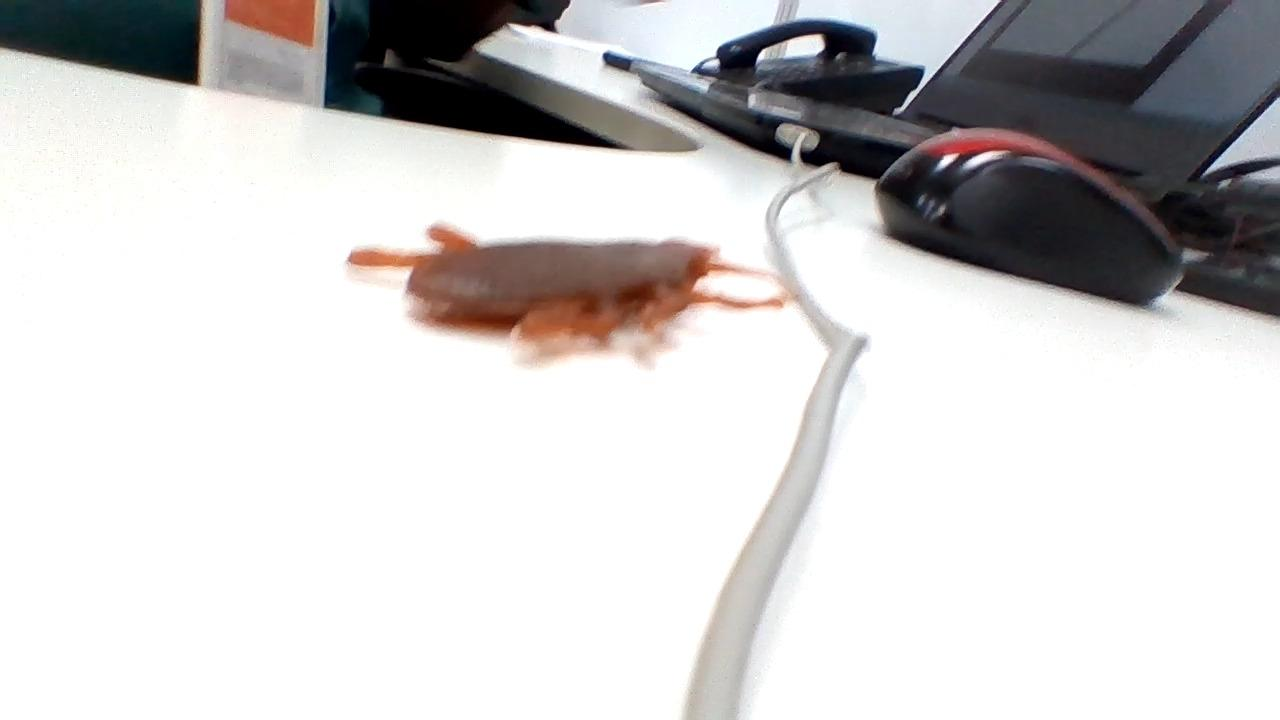cockroach: (349, 192, 782, 362)
